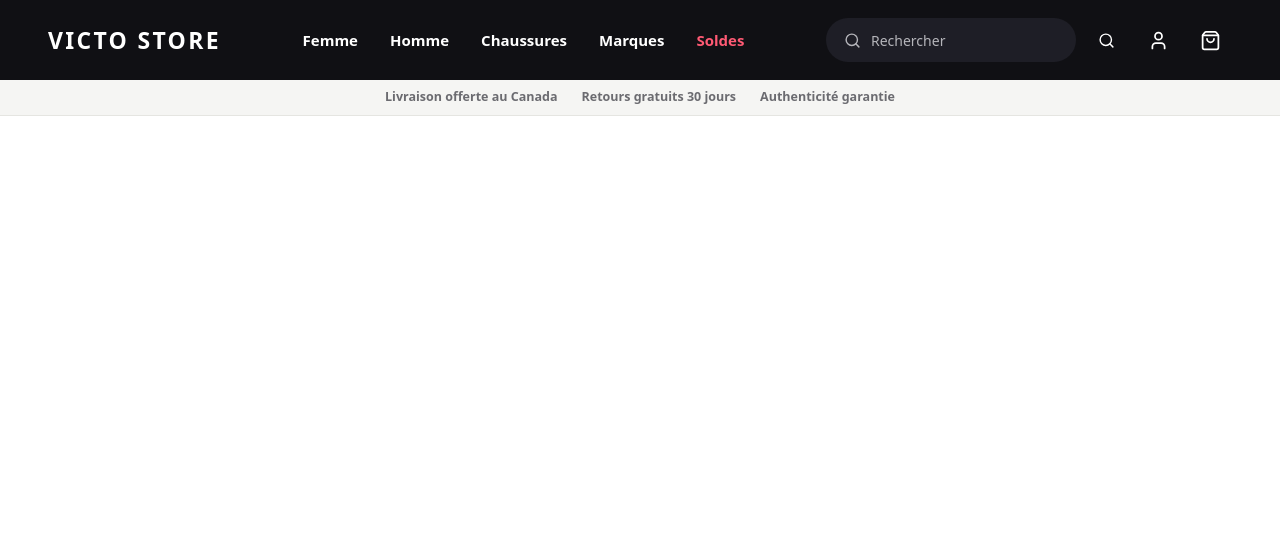
Scenario: en-tête — navigation et menu mobile › ouvre le méga-menu au survol d’une rubrique
Hover over the link "Homme" at [420, 40], box [390, 29, 449, 51]
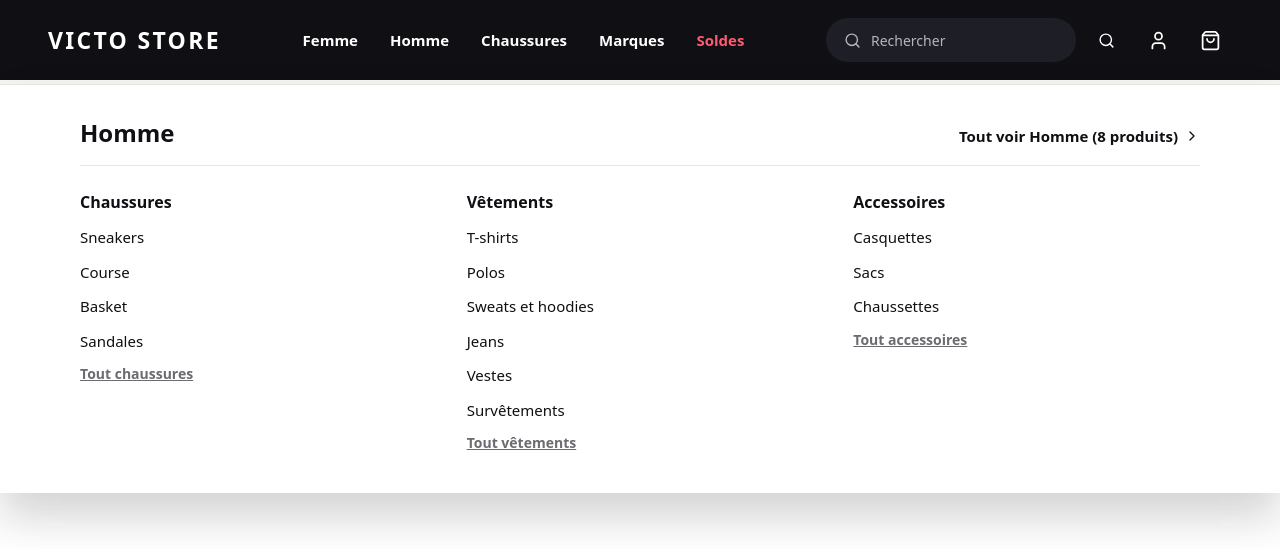
Now the element named "Sous-catégories de Homme" is shown
